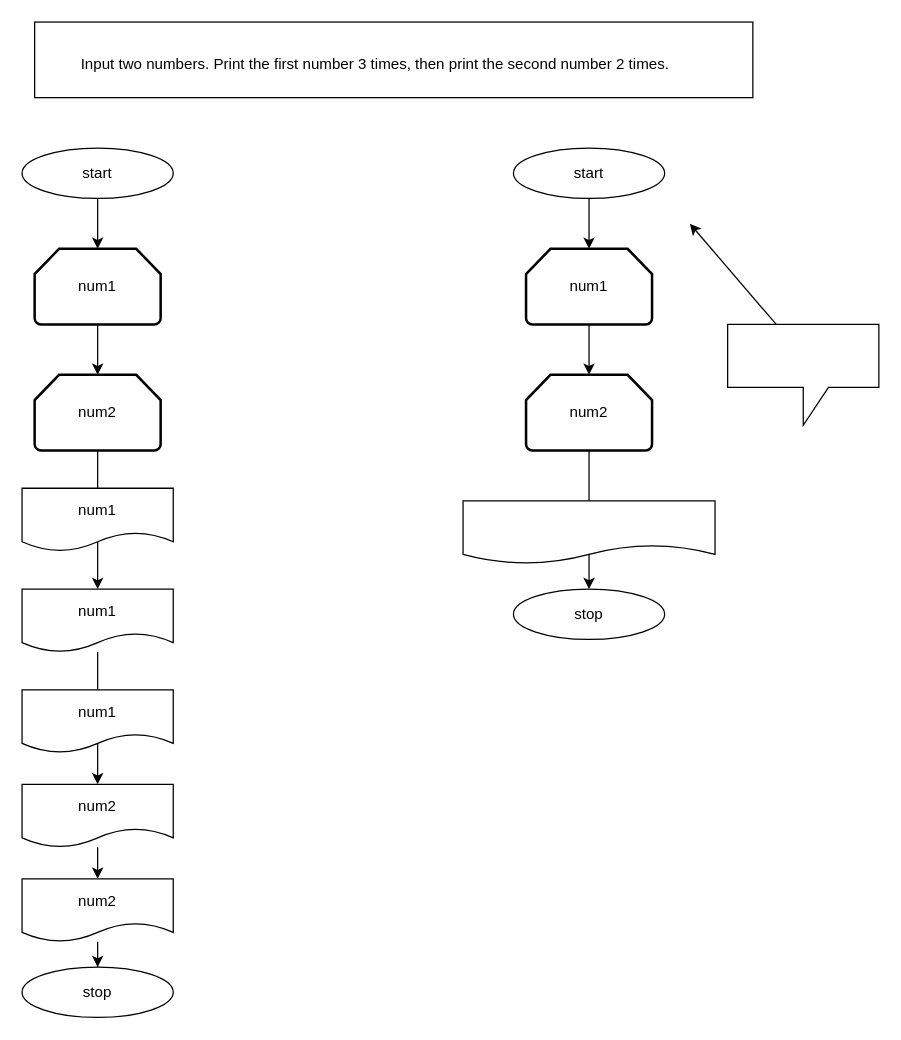
The diagram is 901 pixels wide and 1040 high, and some of its shapes have lost their labels. Here are the shapes that lost their labels. From the top down, the centre of each, then its label:
point 802,374: נראה לי אפשרי גם ככה
point 588,532: num1, num1, num1, num2, num2
